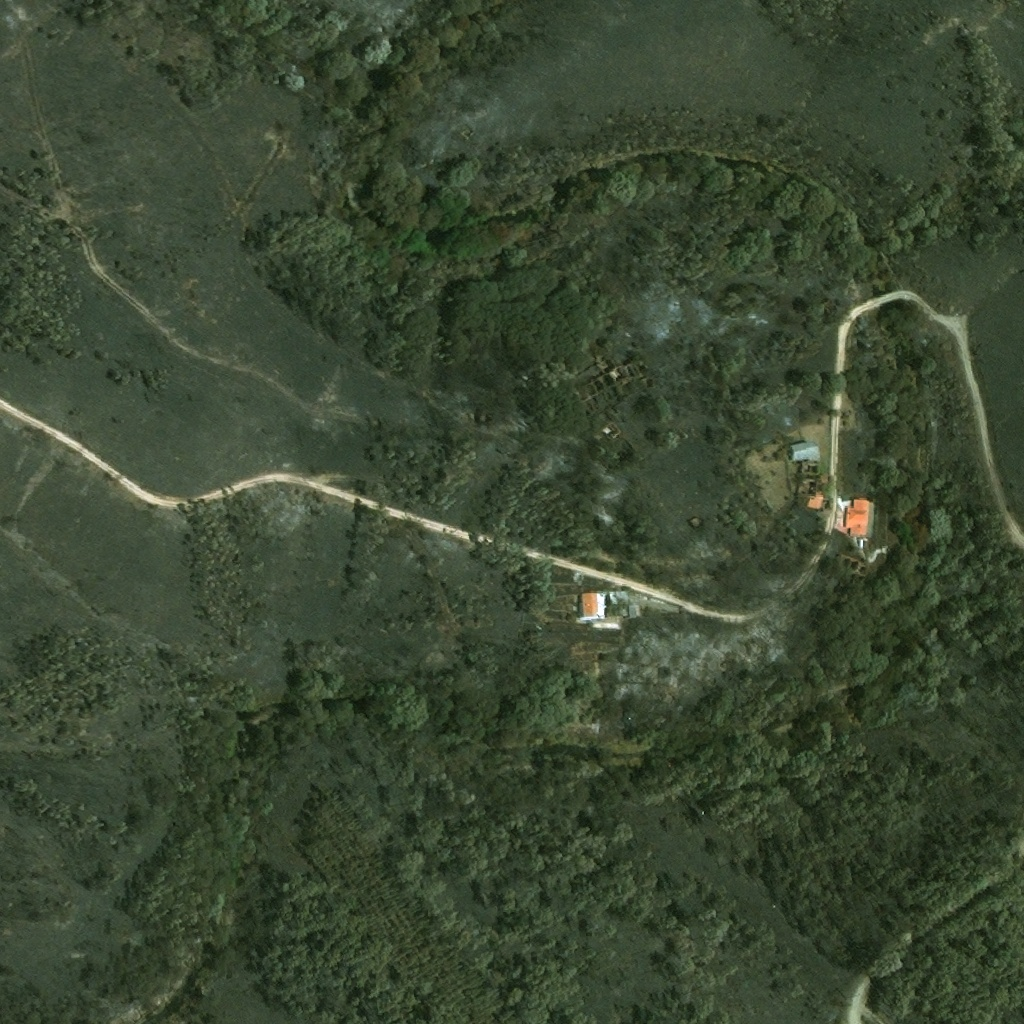0 no-damage: (579, 590, 638, 620), (842, 497, 867, 538), (788, 441, 819, 461), (805, 494, 824, 510)
3 destroyed: (607, 360, 641, 389)
